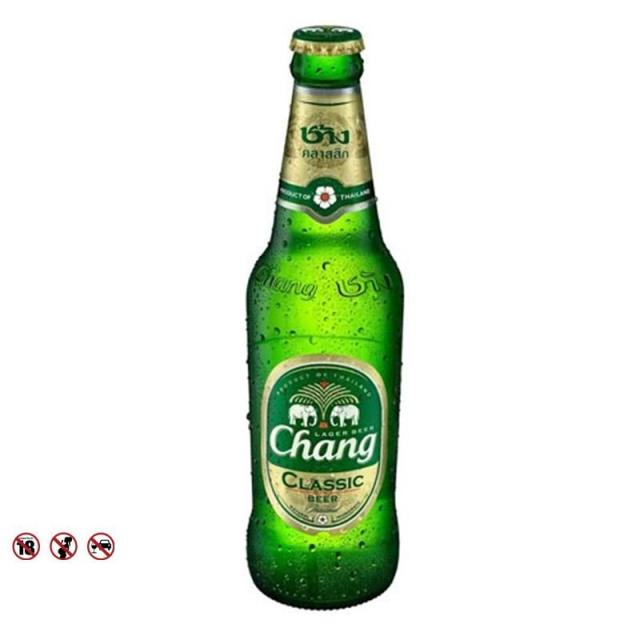Bottle: (238, 24, 406, 615)
